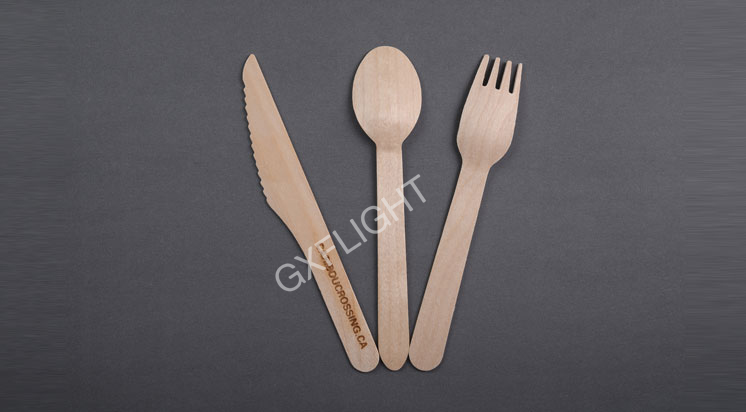Wooden Utensils: (222, 56, 362, 372), (415, 23, 537, 372), (334, 36, 434, 371)
